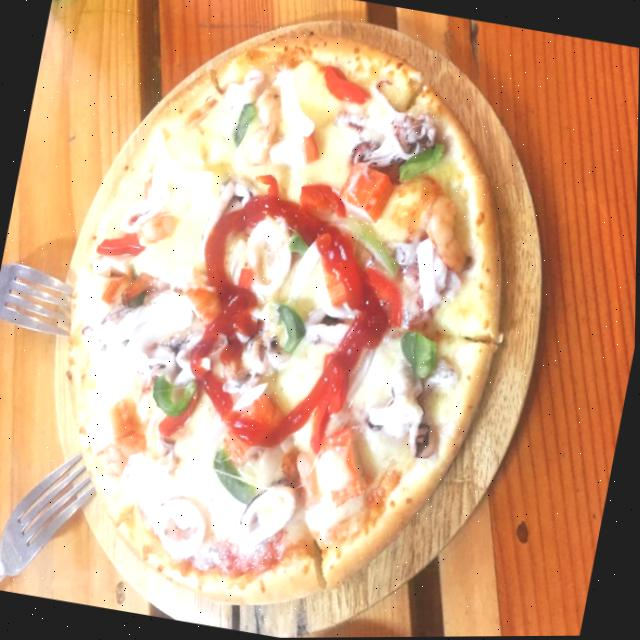pizza: (20, 0, 554, 640)
